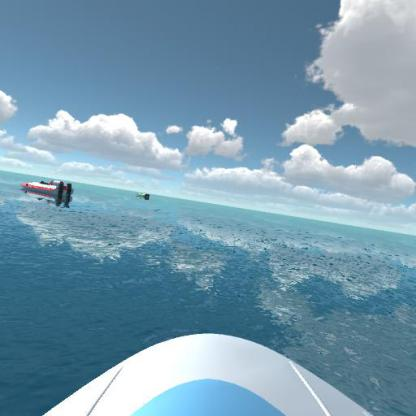usv0: (134, 188, 151, 202)
usv3: (19, 173, 78, 208)
